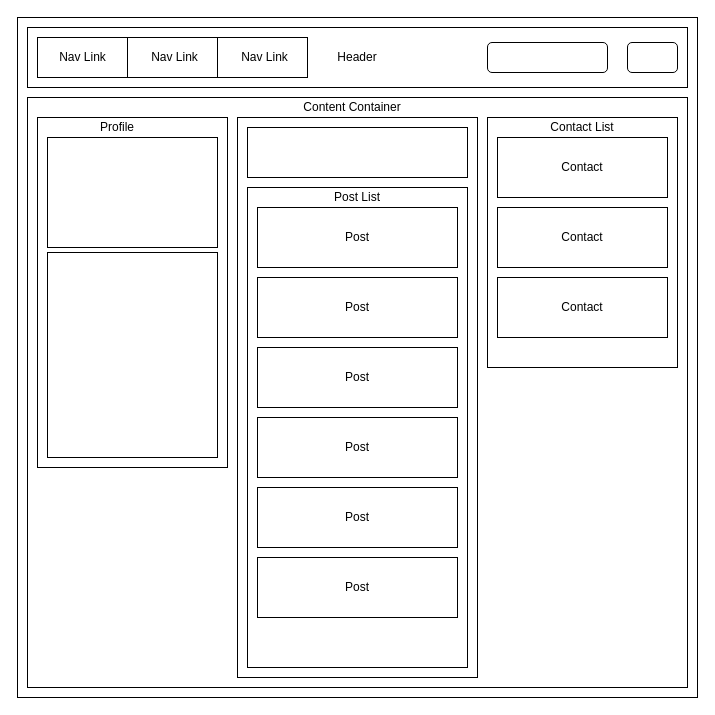
This 715x715 diagram has some shape labels left out. Here are the shapes that lost their labels. From the top down, the centre of each, then its label:
At point 547,57: "Search".
At point 652,57: "Tweet".
At point 357,152: "New Post".
At point 132,192: "Profile Header".
At point 132,355: "Description".
